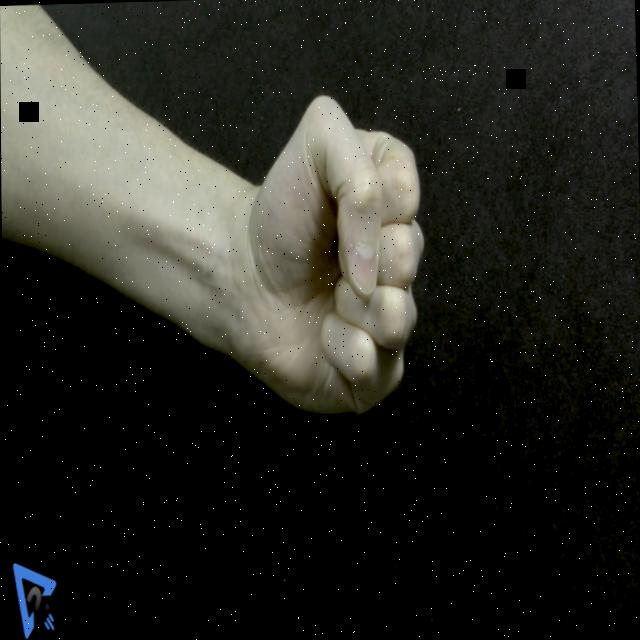Rock: (241, 88, 427, 425)
